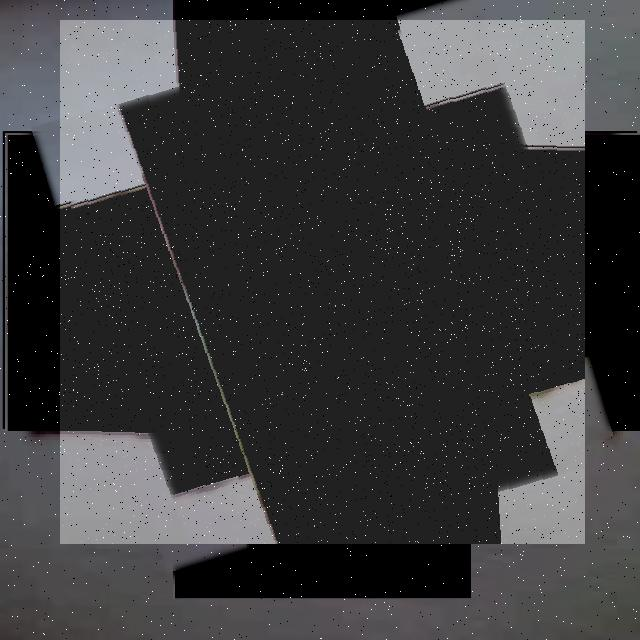lima puluh ribu rupiah: (60, 20, 585, 544)
